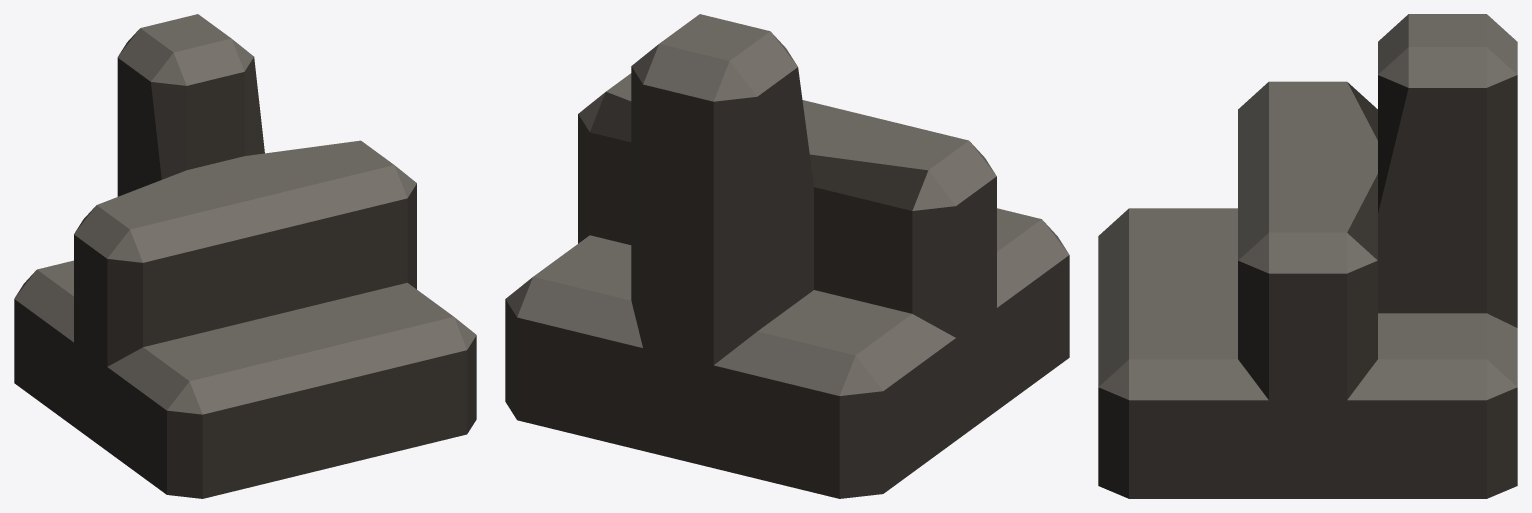
The picture shows the model from 3 angles, left to right: view 1: azimuth 30°, elevation 25°; view 2: azimuth 150°, elevation 25°; view 3: azimuth 270°, elevation 25°; orthographic projection. The views are drawn at different scales.
Visible parts, largest first — view 1: stone_debris_mountain_cluster; view 2: stone_debris_mountain_cluster; view 3: stone_debris_mountain_cluster.
Part boxes in pixels (x1=…): stone_debris_mountain_cluster: x1=14, y1=14, x2=476, y2=498; stone_debris_mountain_cluster: x1=505, y1=14, x2=1069, y2=498; stone_debris_mountain_cluster: x1=1098, y1=14, x2=1517, y2=498.
Size of the model in its own units: 0.3 by 0.3 by 0.3.
1 material, 1 textured.
